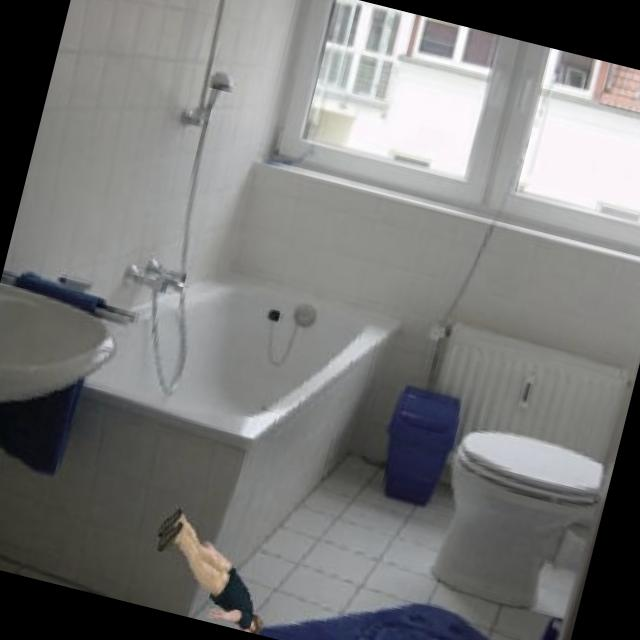Person: (136, 501, 286, 634)
